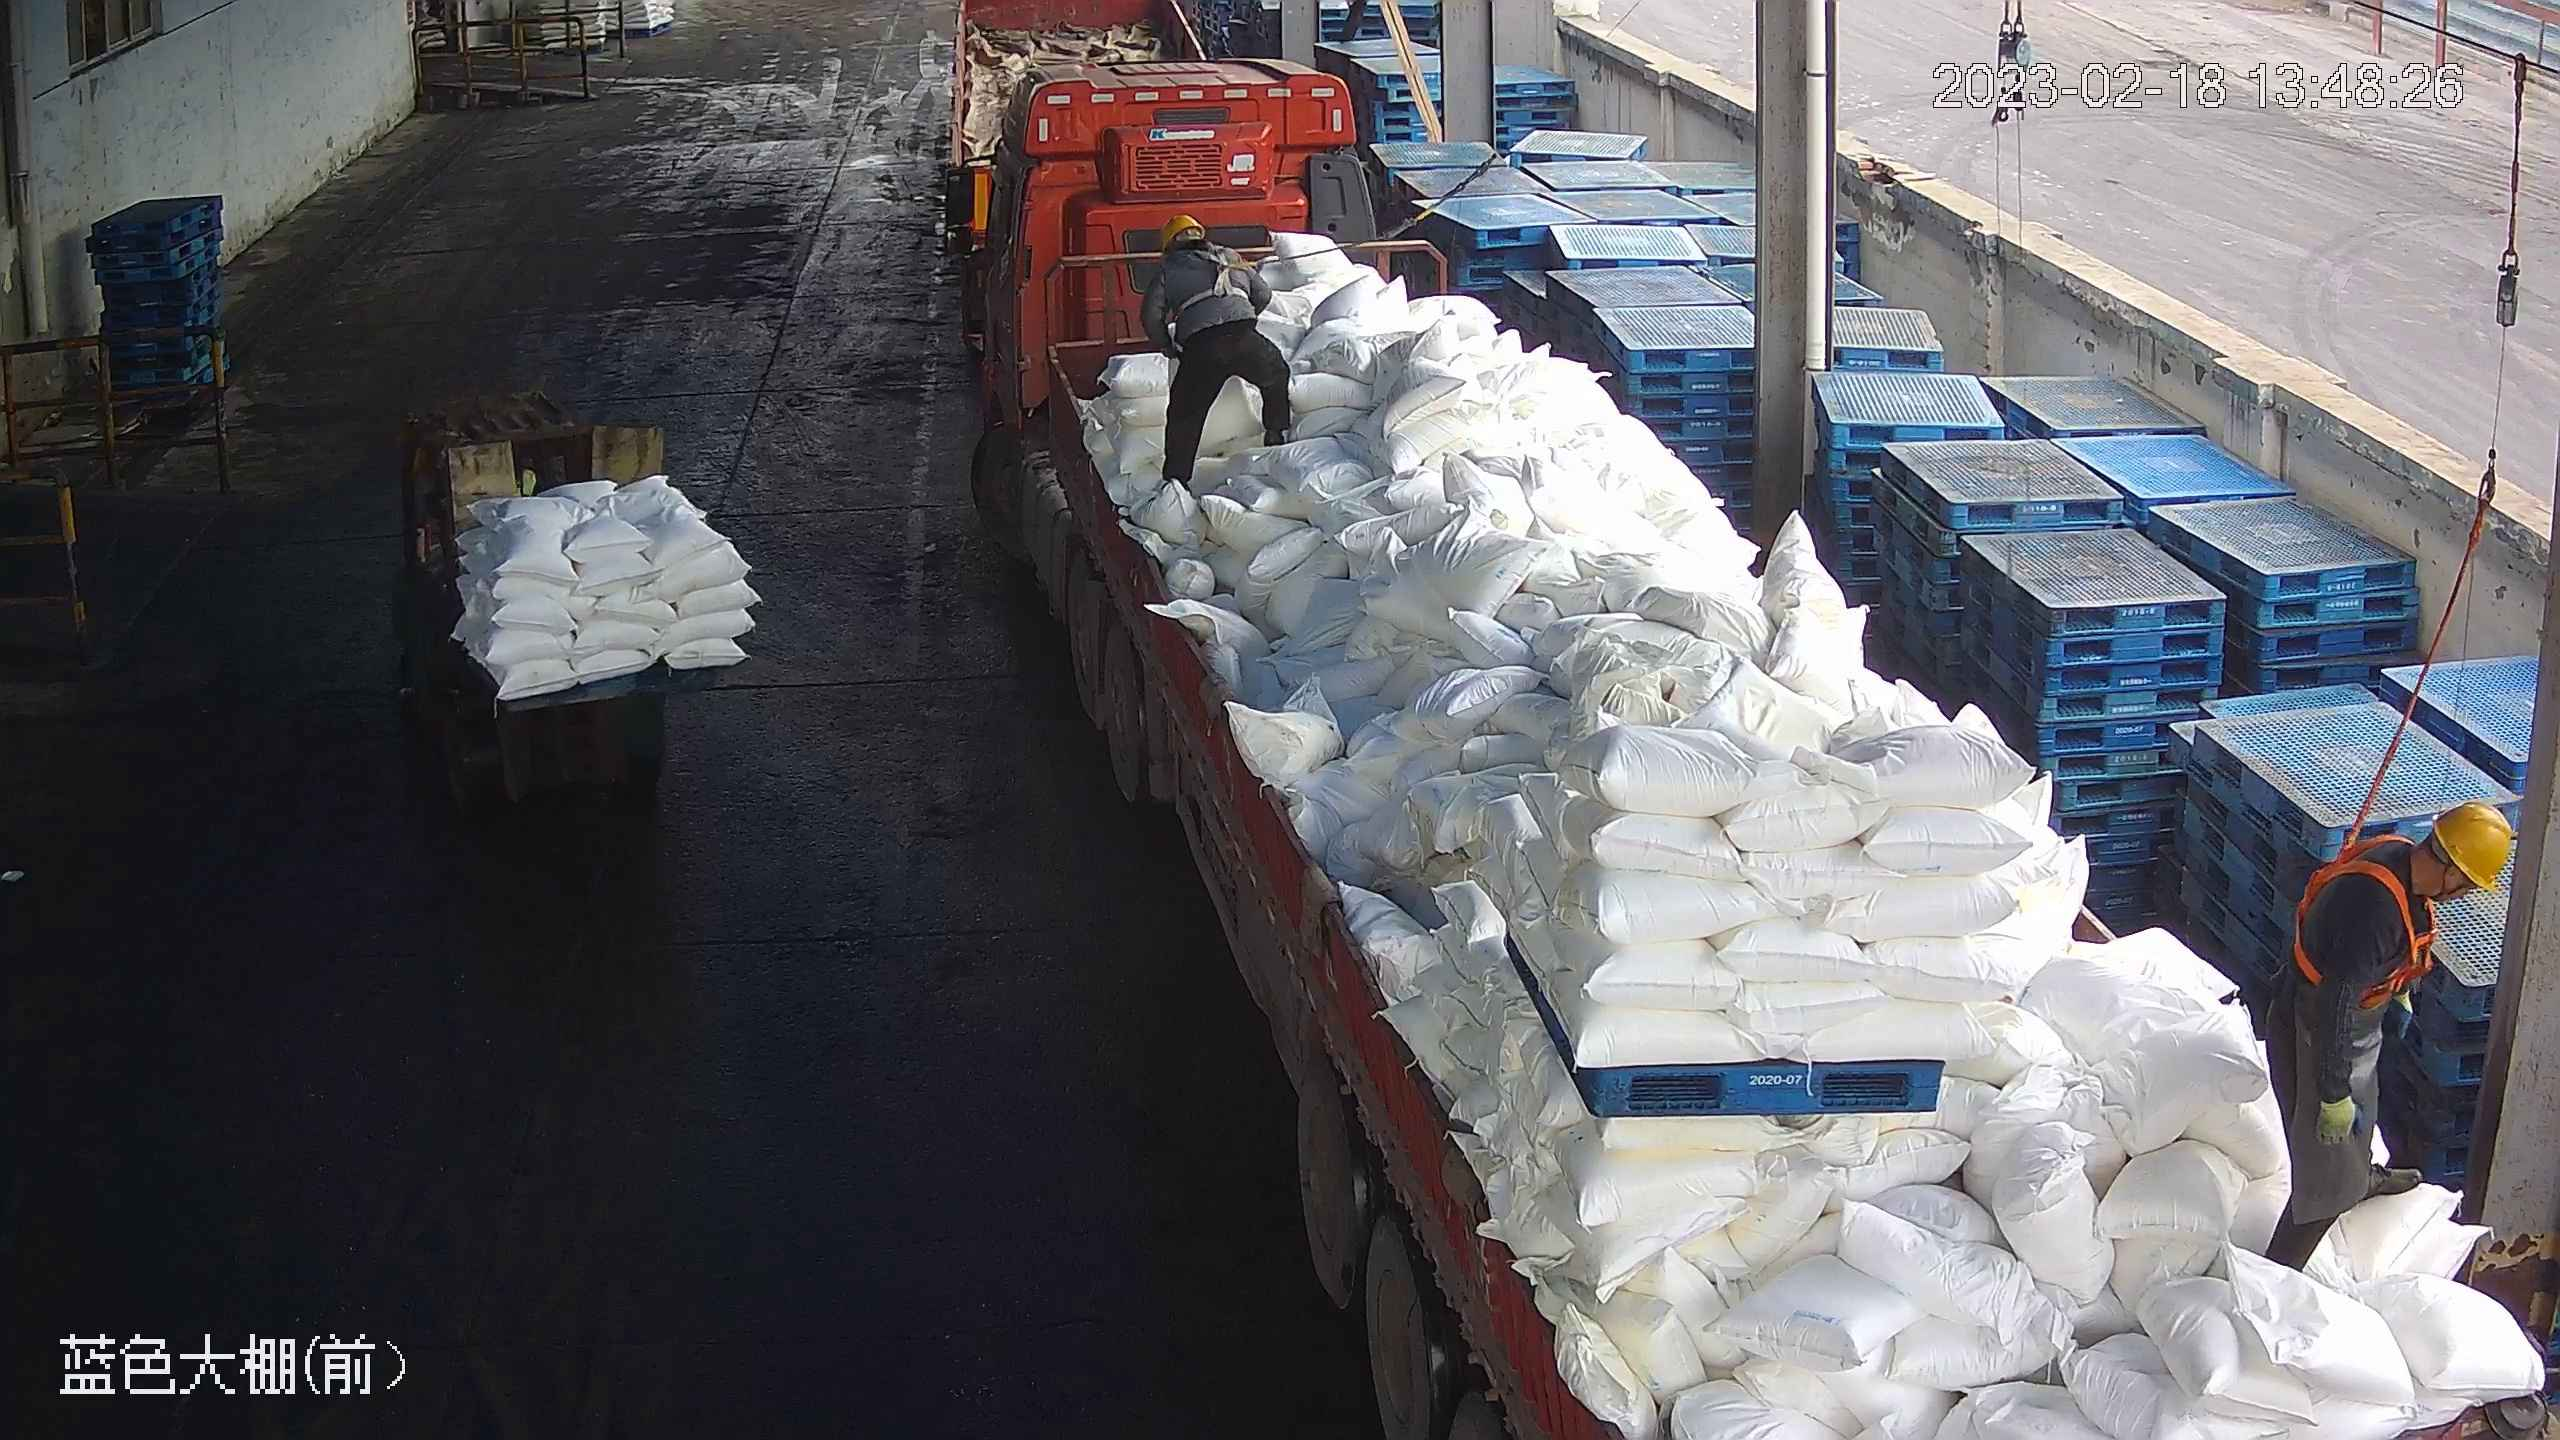belt: (2286, 825, 2443, 1006), (1182, 241, 1261, 304)
head: (2320, 796, 2510, 964), (1156, 215, 1253, 291)
helmet: (2427, 798, 2512, 896), (1159, 212, 1202, 249)
people: (2245, 794, 2509, 1273), (1146, 212, 1300, 496)
truck: (943, 45, 2543, 1440)
